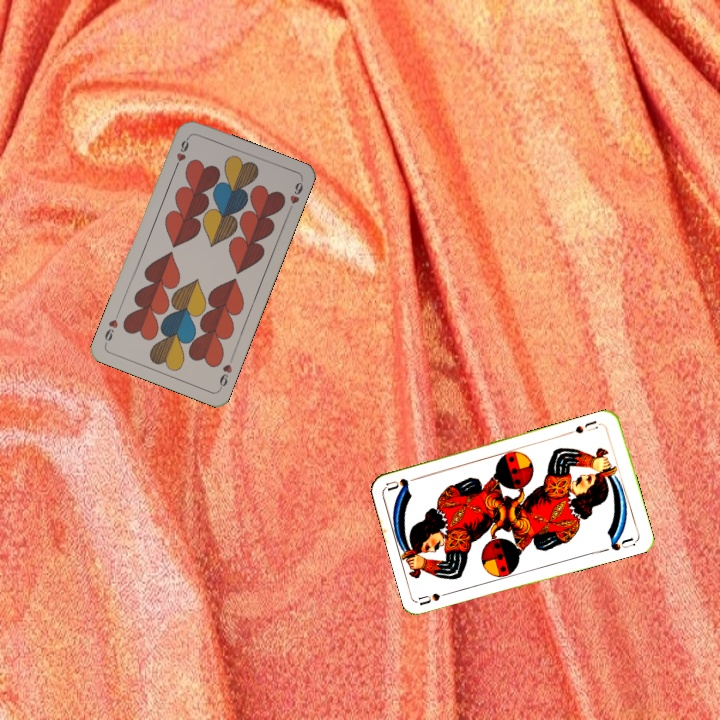H9: (170, 133, 192, 172), (215, 353, 236, 392)
SU: (416, 587, 457, 607), (565, 417, 605, 436)
